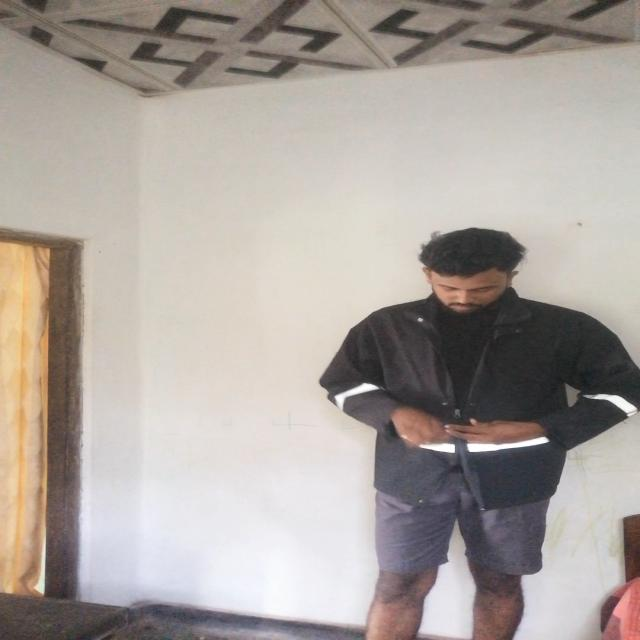Jacket_Wearer: (310, 273, 640, 487)
